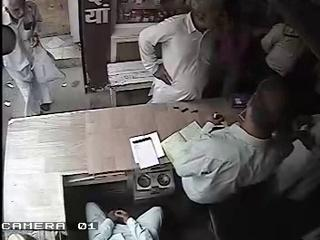Normal: (168, 76, 296, 205), (138, 0, 224, 104), (1, 0, 64, 117), (85, 202, 163, 239)
